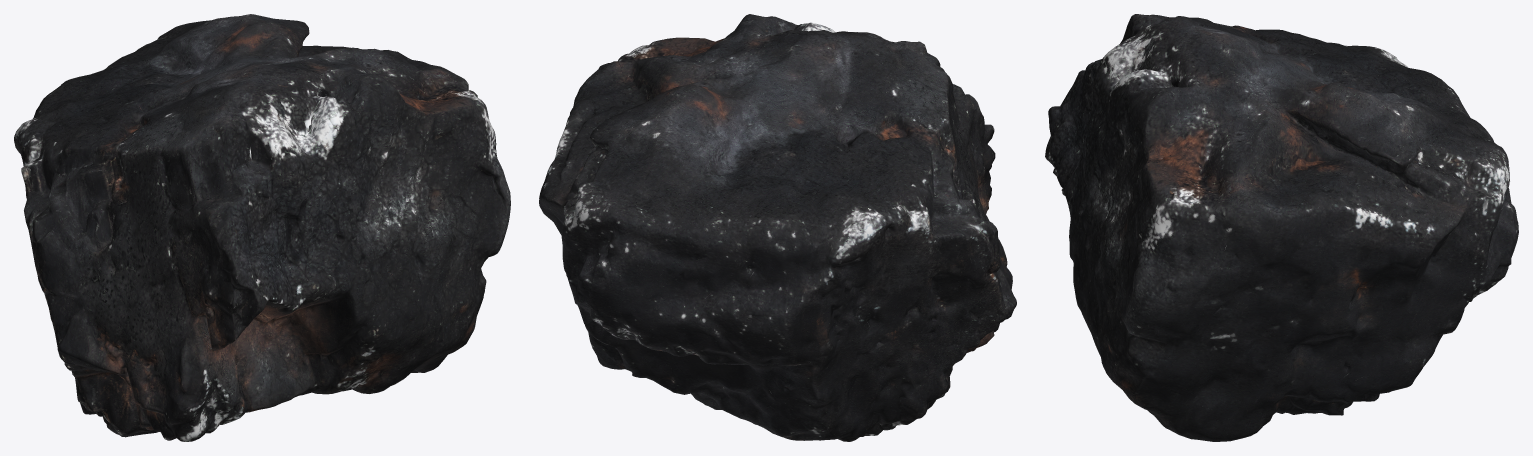
File: biochar.glb
3 views of the same model, side by side, from view 1: azimuth 30°, elevation 25°; view 2: azimuth 150°, elevation 25°; view 3: azimuth 270°, elevation 25° (orthographic). The views are drawn at different scales.
Parts seen in each view (by area): view 1: Mesh_0; view 2: Mesh_0; view 3: Mesh_0.
Part boxes in pixels (x1,y1,x2,y2): Mesh_0: (14,14,510,441); Mesh_0: (539,14,1016,441); Mesh_0: (1045,14,1518,441).
Size of the model in its own units: 1.91 by 1.56 by 1.86.
Materials: 1 (1 with a texture image).
